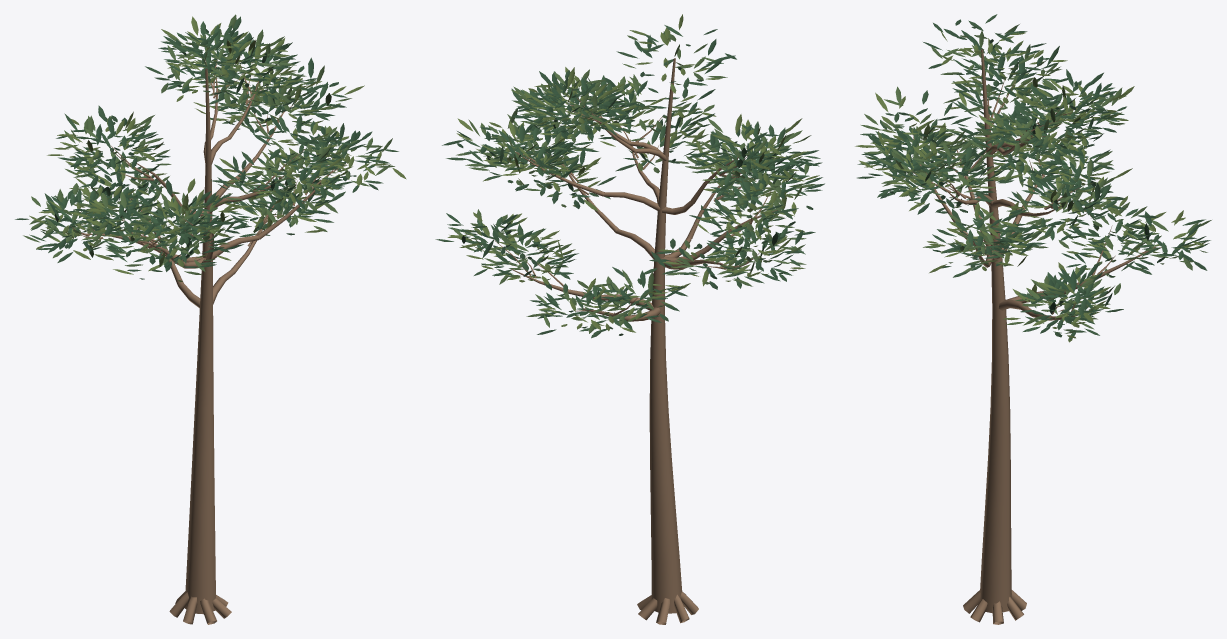
File: Pin_Cotier_1_Low.fbx
The picture shows the model from 3 angles, left to right: view 1: azimuth 30°, elevation 25°; view 2: azimuth 150°, elevation 25°; view 3: azimuth 270°, elevation 25°; orthographic projection. The views are drawn at different scales.
Visible parts, largest first — view 1: Pin_Cotier_1_Low; view 2: Pin_Cotier_1_Low; view 3: Pin_Cotier_1_Low.
Boxes of the visible parts, x1,y1,x2,y2 form: Pin_Cotier_1_Low: (15, 14, 406, 624); Pin_Cotier_1_Low: (435, 14, 824, 624); Pin_Cotier_1_Low: (855, 14, 1211, 624).
Bounding box in the file's own units: 769 × 1247 × 682.
